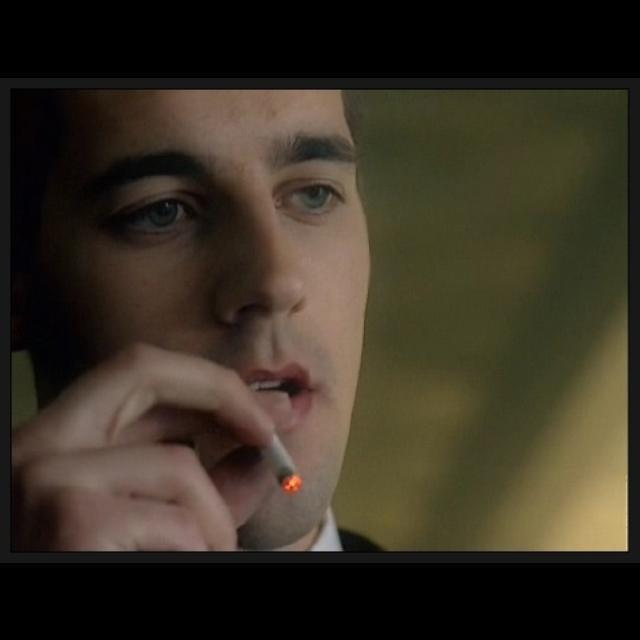rokok: (258, 425, 308, 499)
